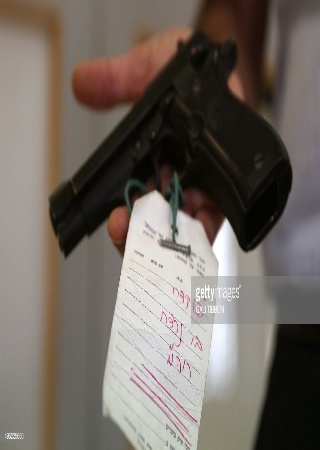handgun: (47, 24, 295, 262)
